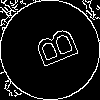B: (25, 25, 80, 74)
